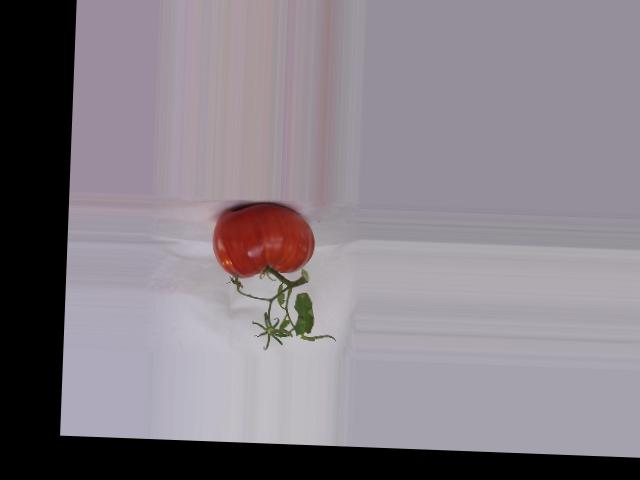tomato: (210, 200, 316, 280)
